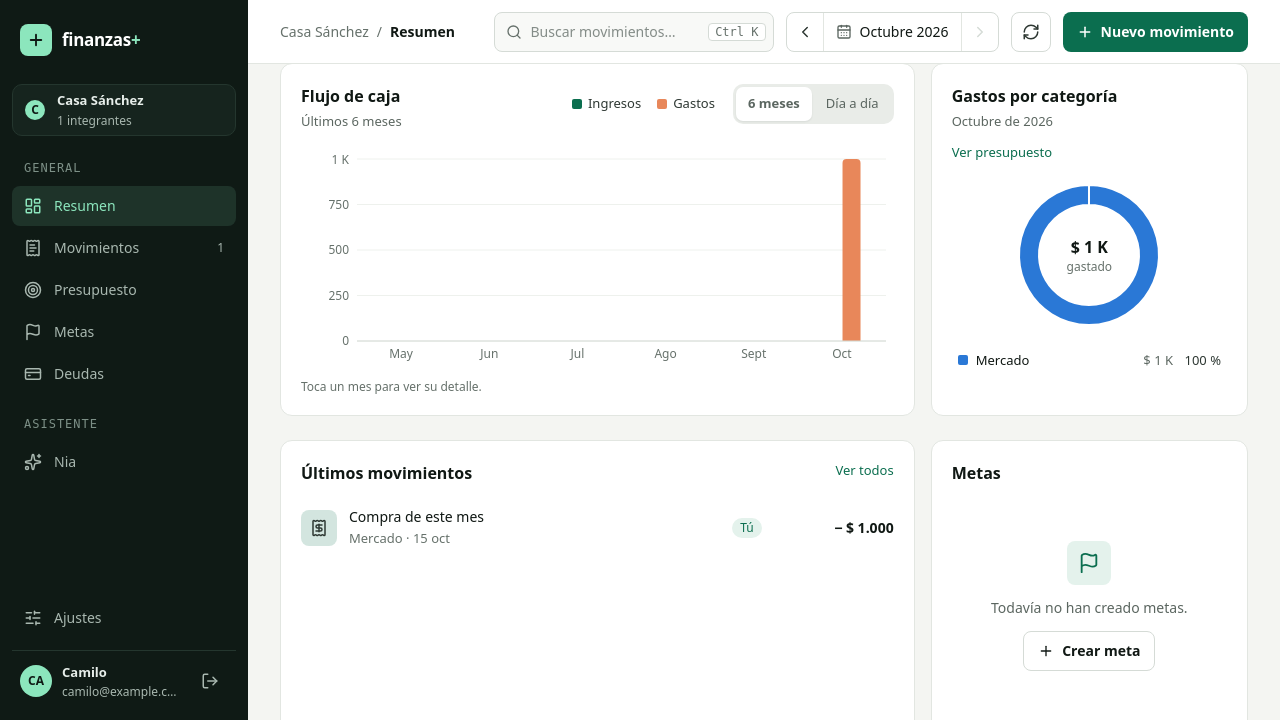
Test case: App dashboard charts › opens Movimientos filtered by the category picked in the spending chart
(page scrolled)
Click the button with aria-label "Ver movimientos de Mercado". click: (1002, 360)
box: [952, 346, 1227, 374]
(page scrolled)
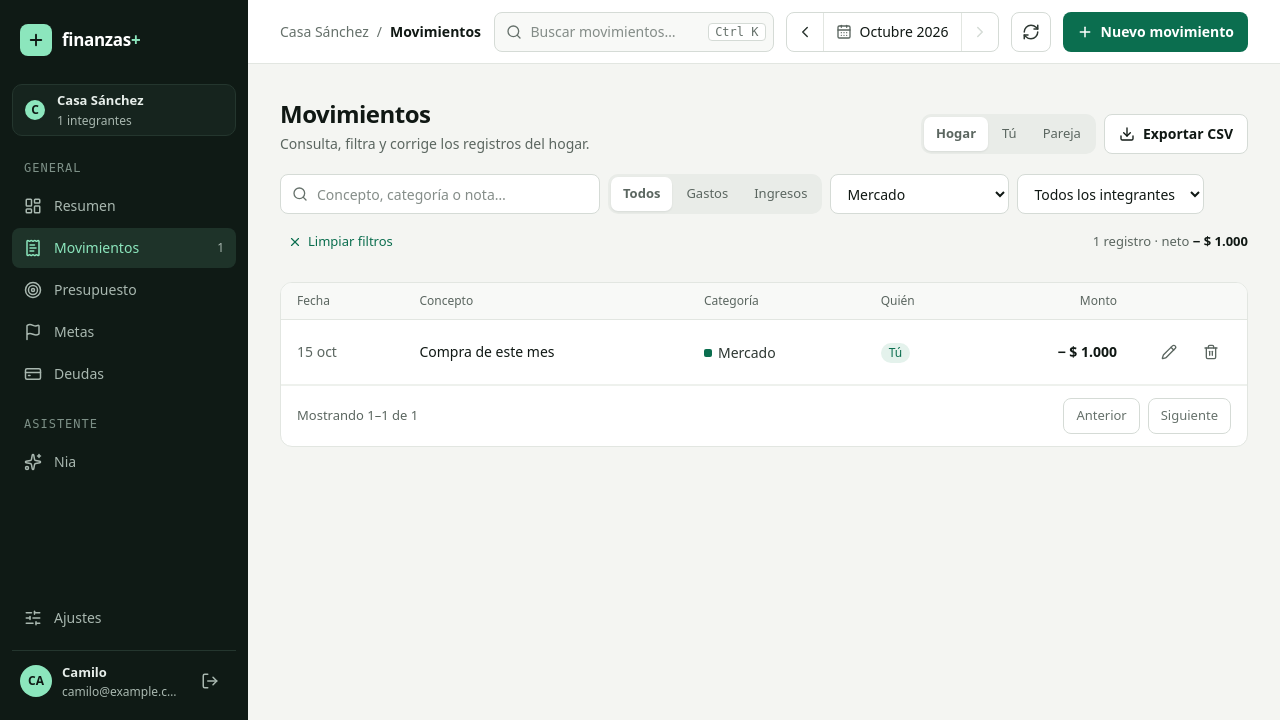
Check: the heading "Movimientos" is shown, box [280, 97, 430, 130]
Check: the 1st dropdown named "Categoría" shows "Mercado", box [830, 174, 1009, 214]
